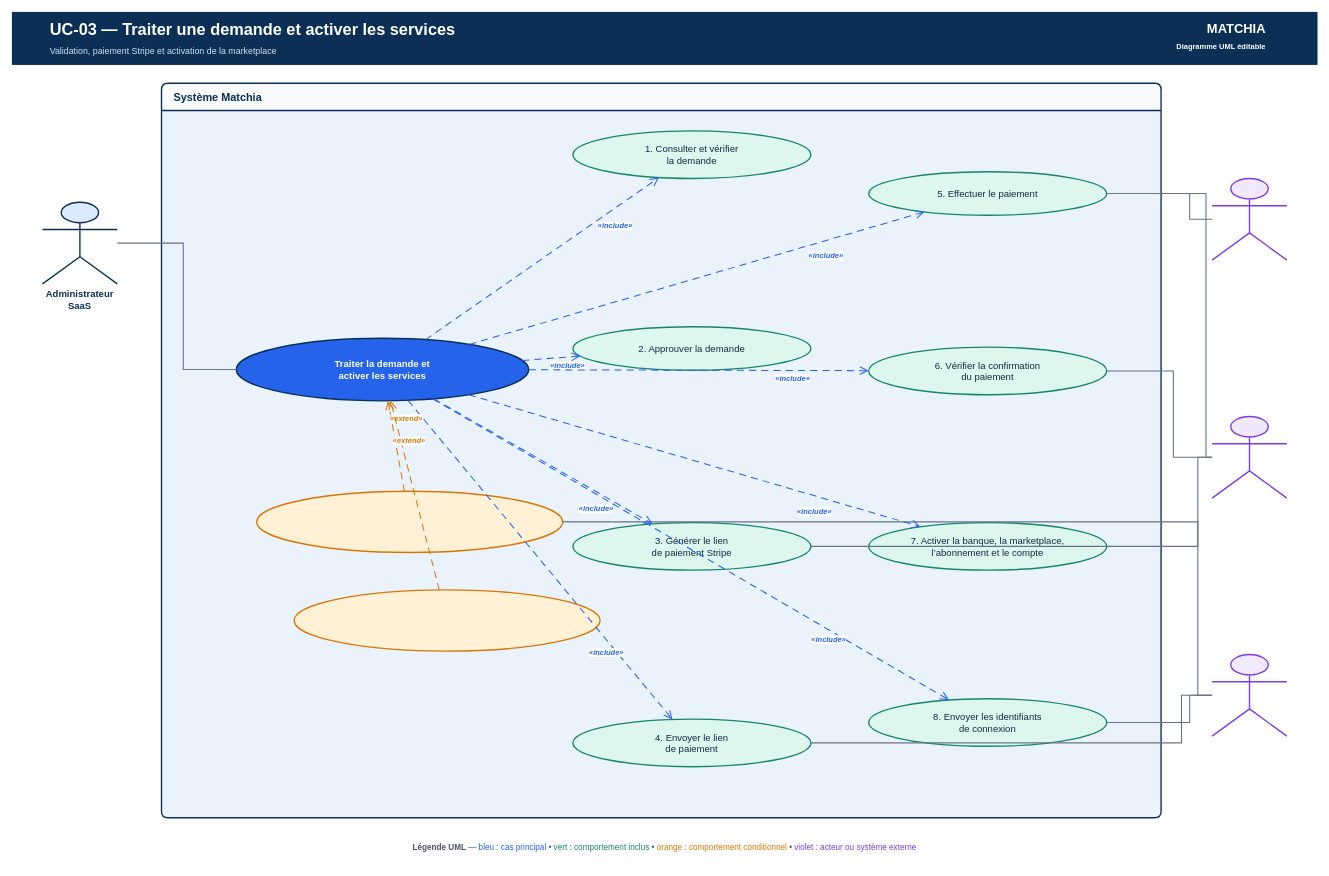
This 1329x876 diagram has some shape labels left out. Here are the shapes that lost their labels. From the top down, the box of each, then its label:
(1211, 177, 1287, 260): Représentant de la banque
(1211, 415, 1287, 498): Stripe
(256, 490, 563, 553): Rejeter la demande avec un motif [demande non conforme]
(293, 589, 600, 651): Maintenir les ressources inactives [paiement échoué, annulé ou non confirmé]
(1211, 653, 1287, 736): Service e-mail
